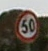limite 50: (14, 8, 38, 43)
